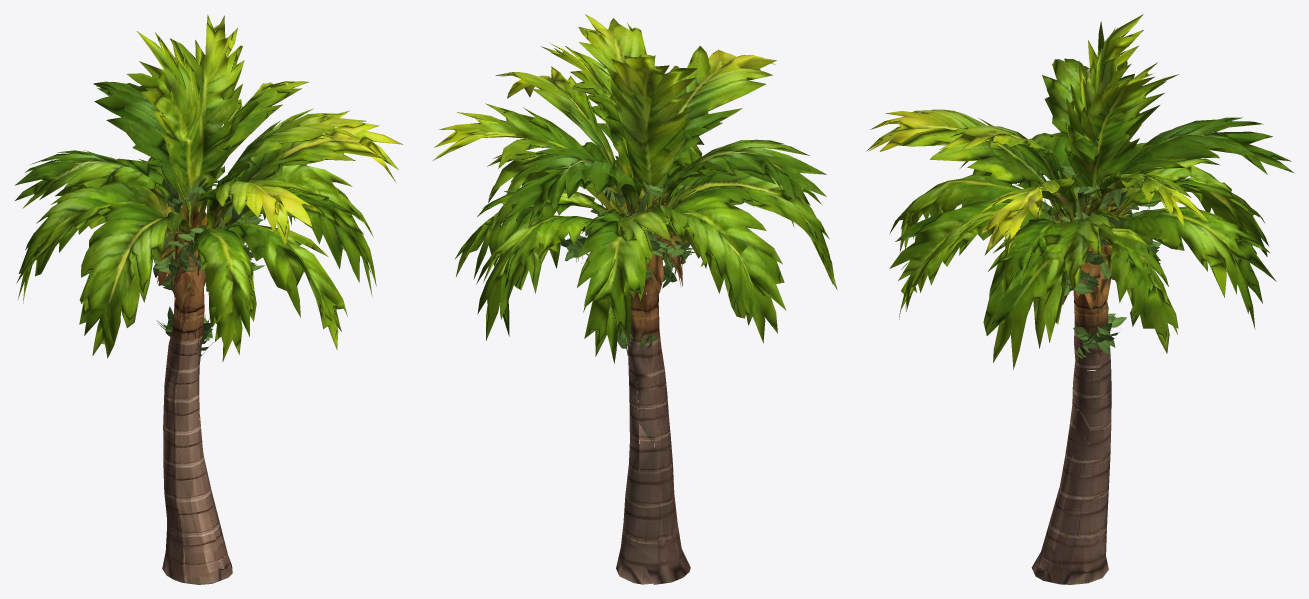
The model's file is palm-date-mid.glb.
The picture shows the model from 3 angles, left to right: view 1: azimuth 30°, elevation 25°; view 2: azimuth 150°, elevation 25°; view 3: azimuth 270°, elevation 25°; orthographic projection. The views are drawn at different scales.
Parts seen in each view (by area): view 1: Foliage, Wood; view 2: Foliage, Wood; view 3: Foliage, Wood.
Part boxes in pixels (x1,y1,x2,y2): Foliage: [15, 14, 402, 364]; Wood: [157, 201, 247, 584]; Foliage: [433, 14, 837, 363]; Wood: [606, 187, 690, 584]; Foliage: [866, 14, 1293, 369]; Wood: [1031, 192, 1129, 584].
Bounding box in the file's own units: 8.41 × 12.01 × 8.6.
Materials: 2 (2 with a texture image).
